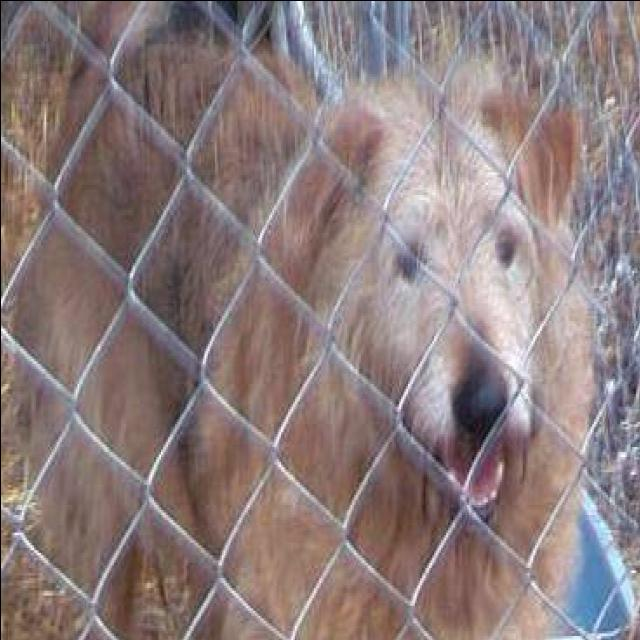dog: (1, 4, 596, 640)
